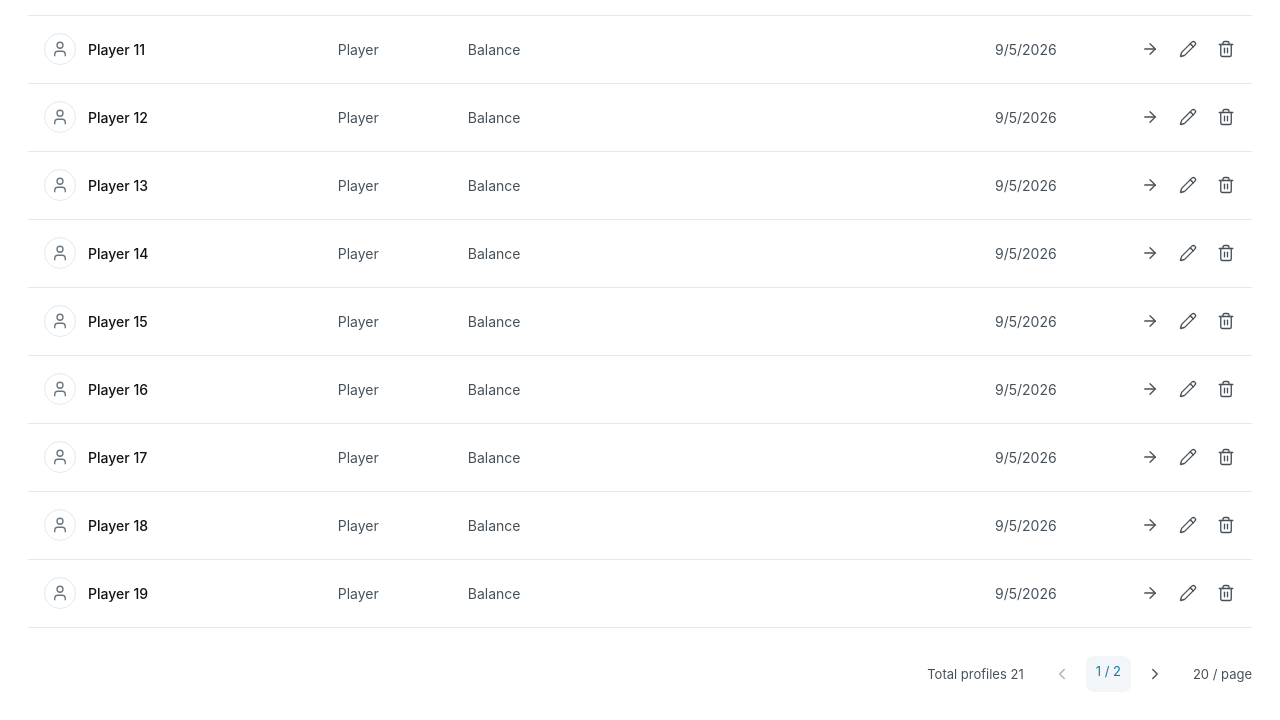
it: shows a searchable table with type filtering and twenty profiles per page
(page scrolled)
Click the button named "Next" at (1155, 674), box [1137,656,1173,692]
(page scrolled)
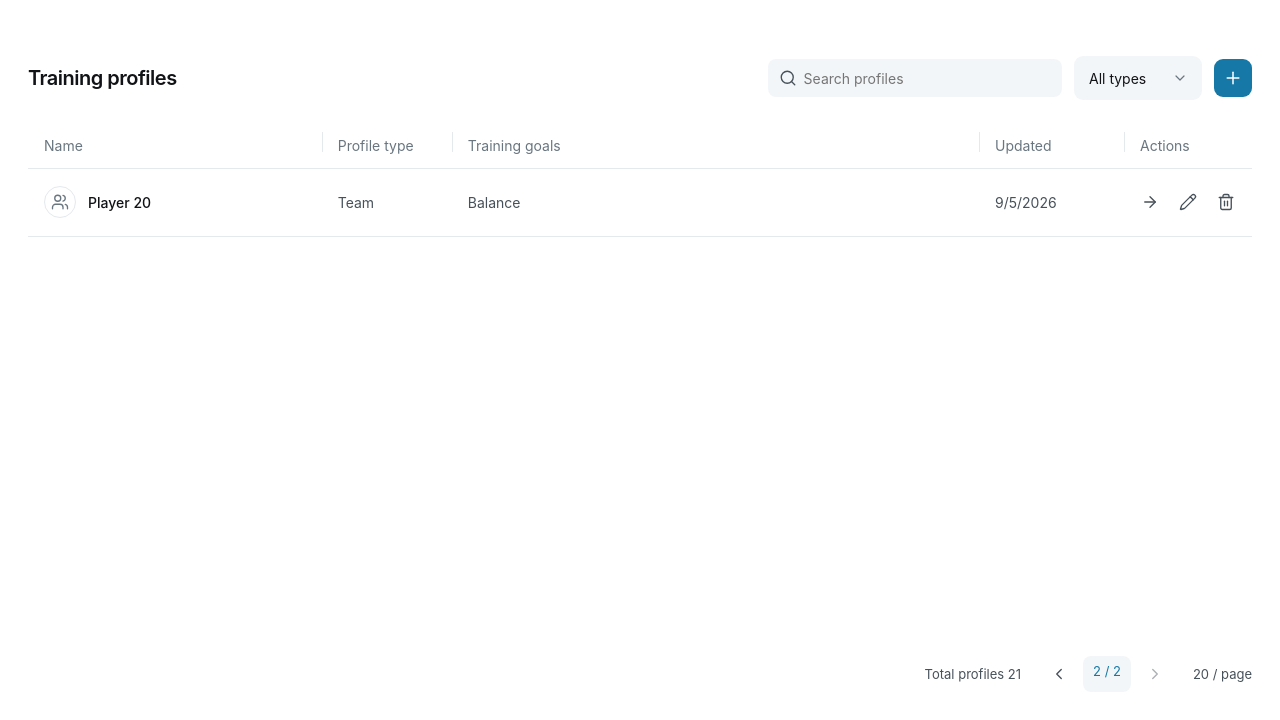
Type "player 1" into the search field labelled "Search profiles" at (915, 78), box [768,59,1062,97]
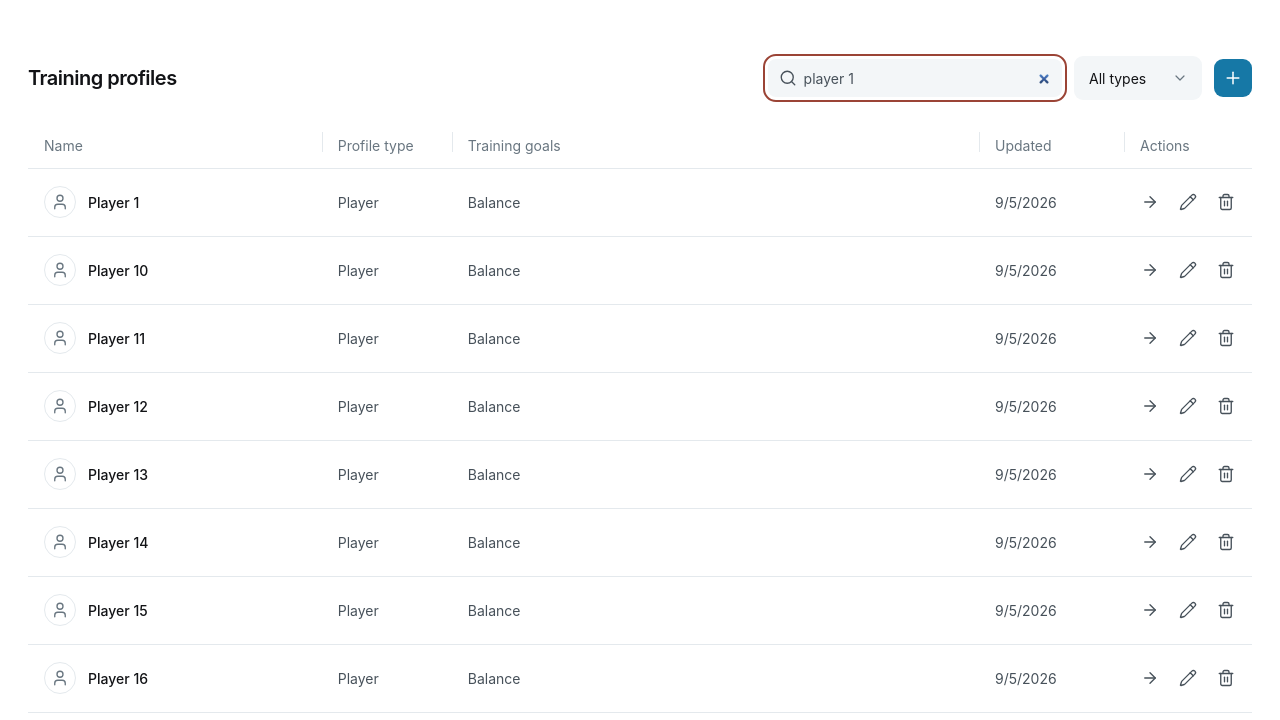
Result: the number of rows is 12
Select "Team" in the dropdown named "Profile type" at (1138, 78), box [1074,56,1202,100]
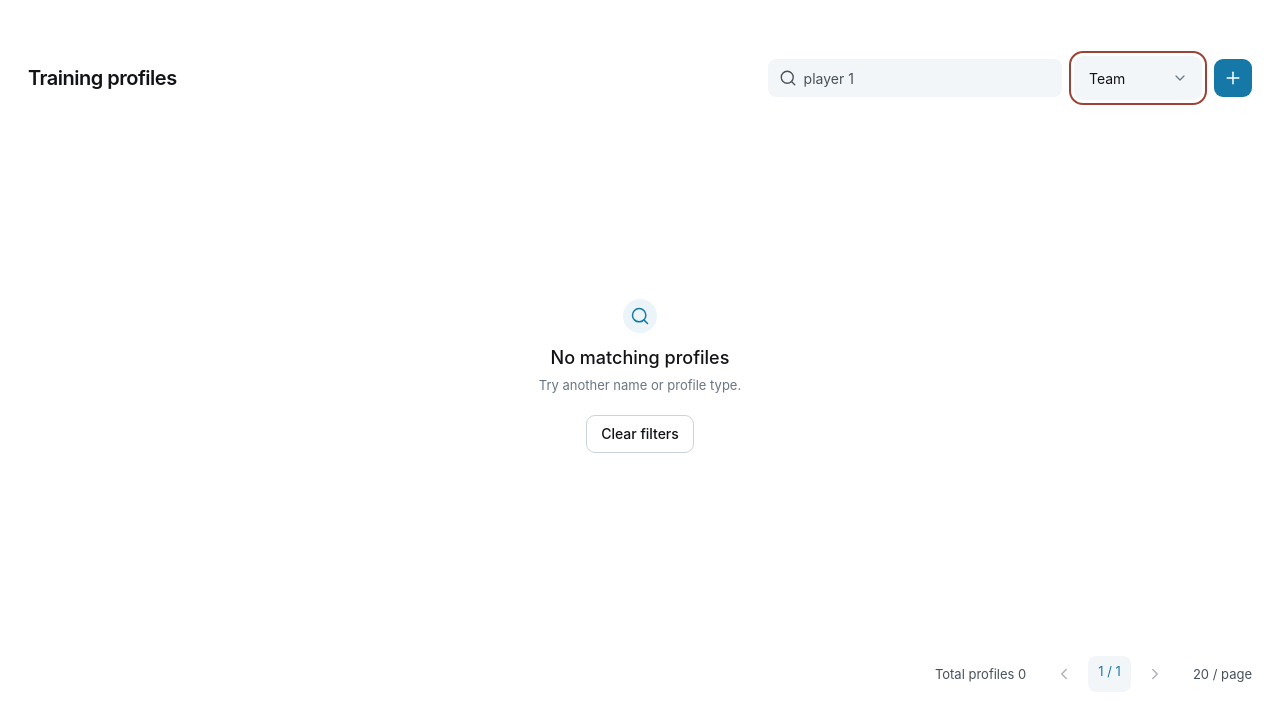
Result: the heading "No matching profiles" is shown at [551,348,729,368]
Click the button "Clear filters" at (640, 434), box [586,414,694,452]
(page scrolled)
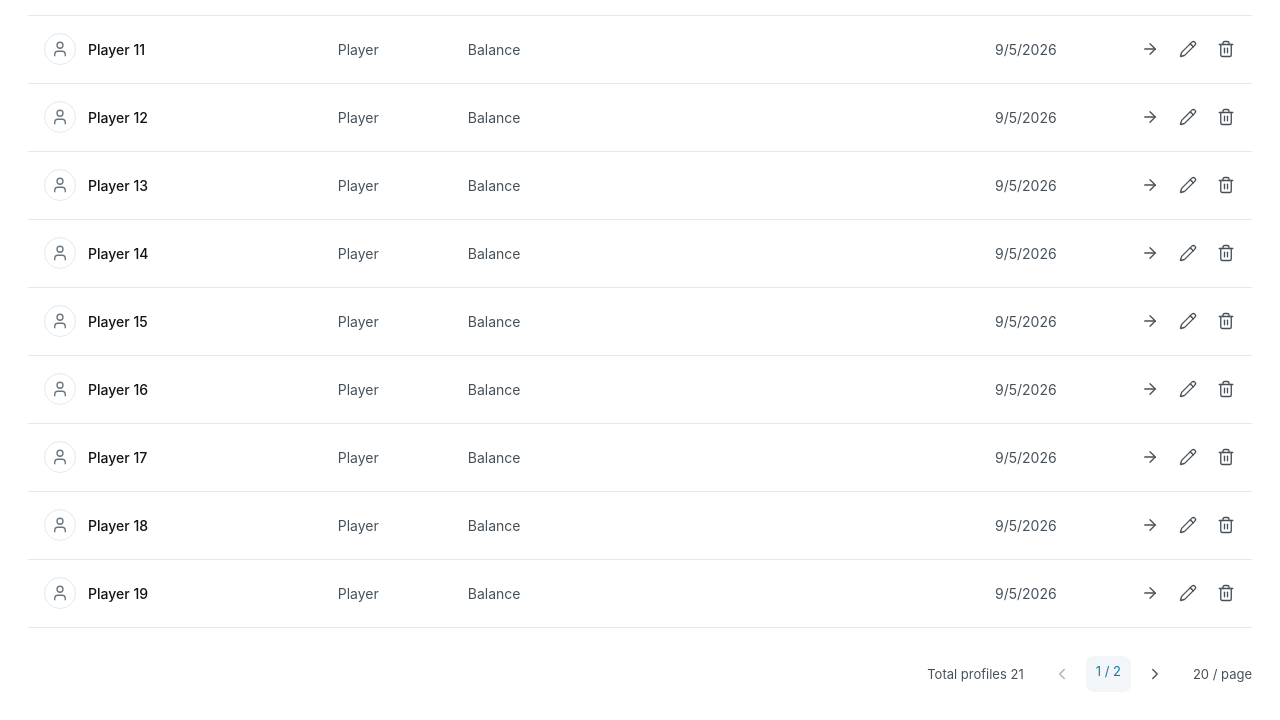
Result: the text "1 / 2" is shown at [1086,656,1131,692]
